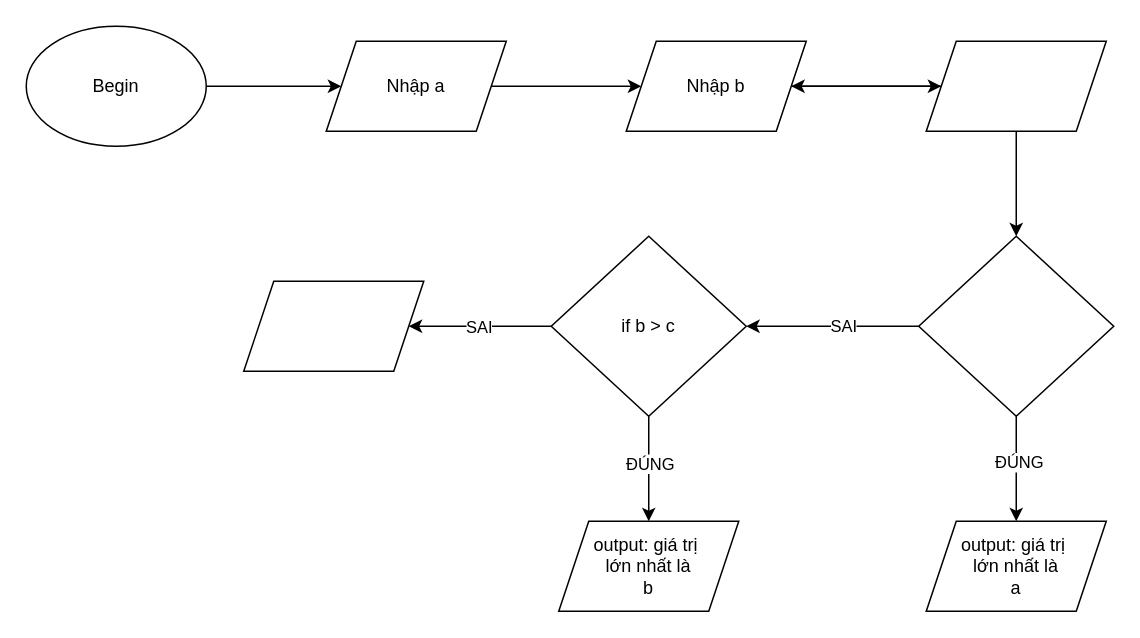
Image size: 1140x638. Some labels were removed from this diagram. Here are the shapes that lost their labels. From the top down, the box of each, then its label:
(925, 40, 1106, 131): Nhập c
(242, 280, 424, 371): output: giá trị lớn nhất là c
(917, 235, 1114, 416): if a > b and a > c
